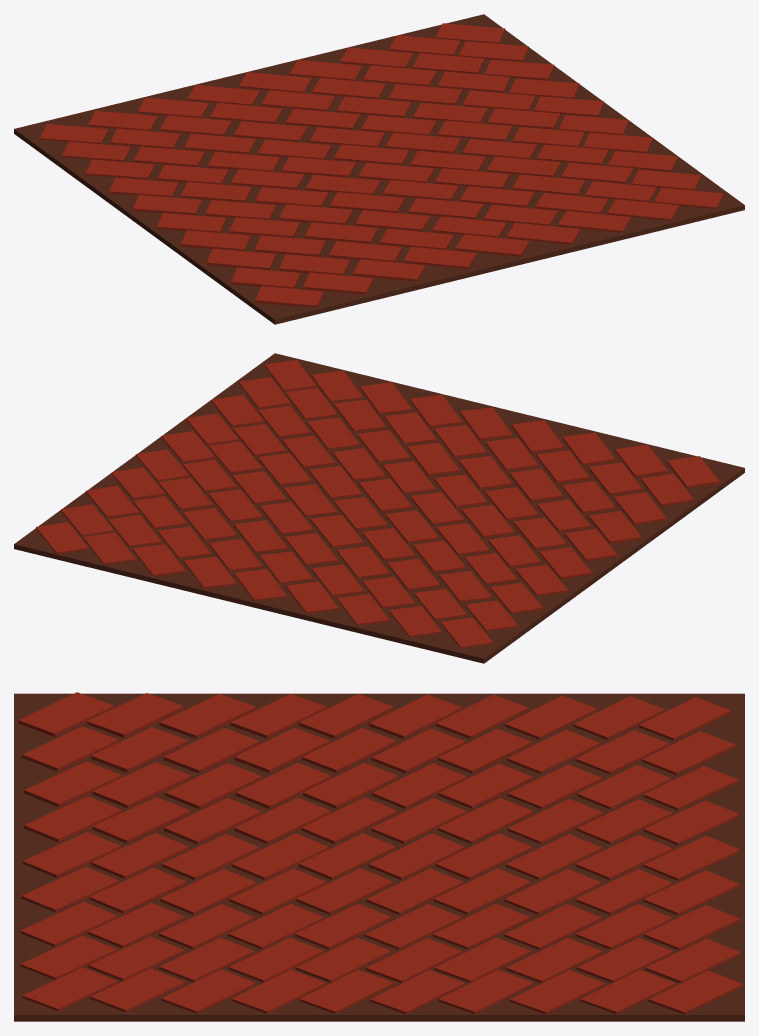
Rendered from ground.fbx.
The picture shows the model from 3 angles, top to bottom: view 1: azimuth 30°, elevation 25°; view 2: azimuth 150°, elevation 25°; view 3: azimuth 270°, elevation 25°; orthographic projection. The views are drawn at different scales.
Visible parts, largest first — view 1: Cube.026, Plane; view 2: Cube.026, Plane; view 3: Cube.026, Plane.
Part boxes in pixels (x1,y1,x2,y2): Cube.026: (40, 23, 723, 307); Plane: (14, 14, 744, 324); Cube.026: (36, 360, 719, 648); Plane: (14, 353, 744, 663); Cube.026: (18, 692, 743, 1014); Plane: (14, 693, 744, 1021).
Size of the model in its own units: 1726 by 25.5 by 1659.
